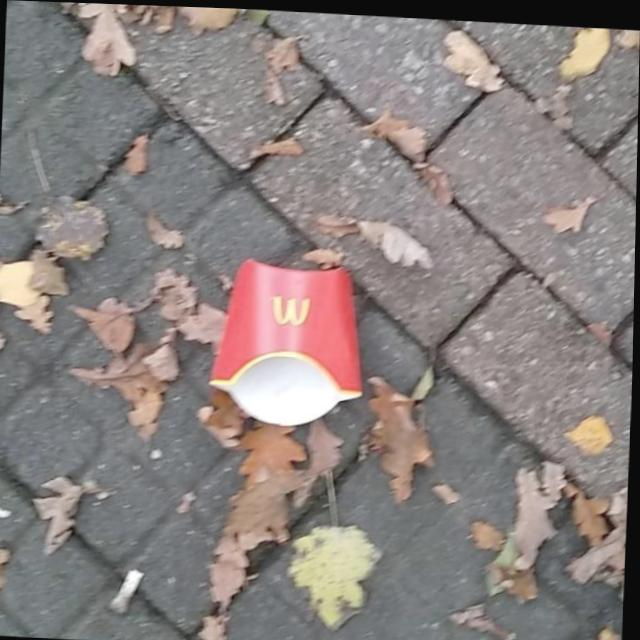Paper: (204, 251, 370, 428)
